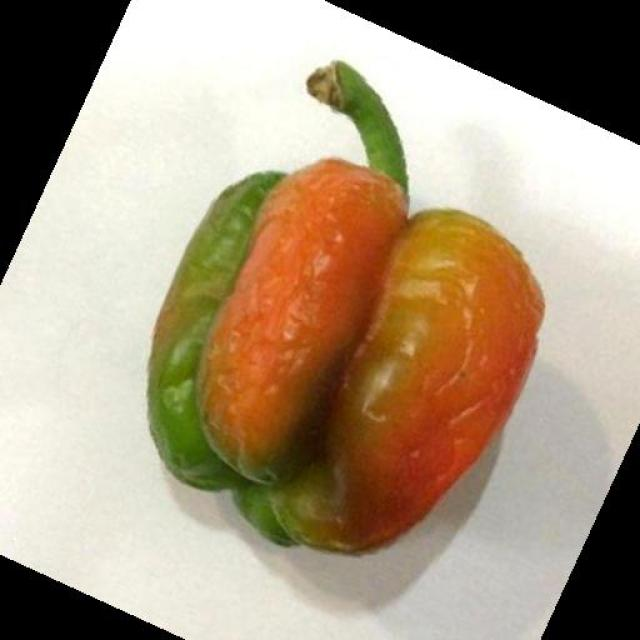Stale_Capsicum: (148, 146, 538, 561)
